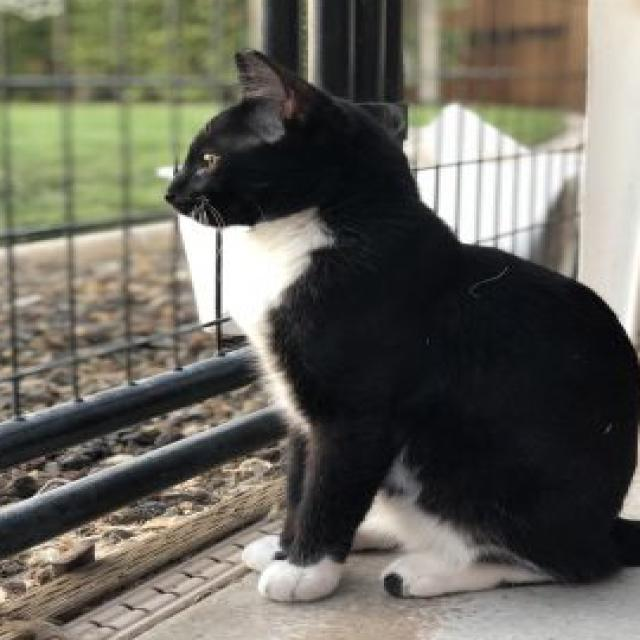Tuxedo: (156, 46, 640, 603)
